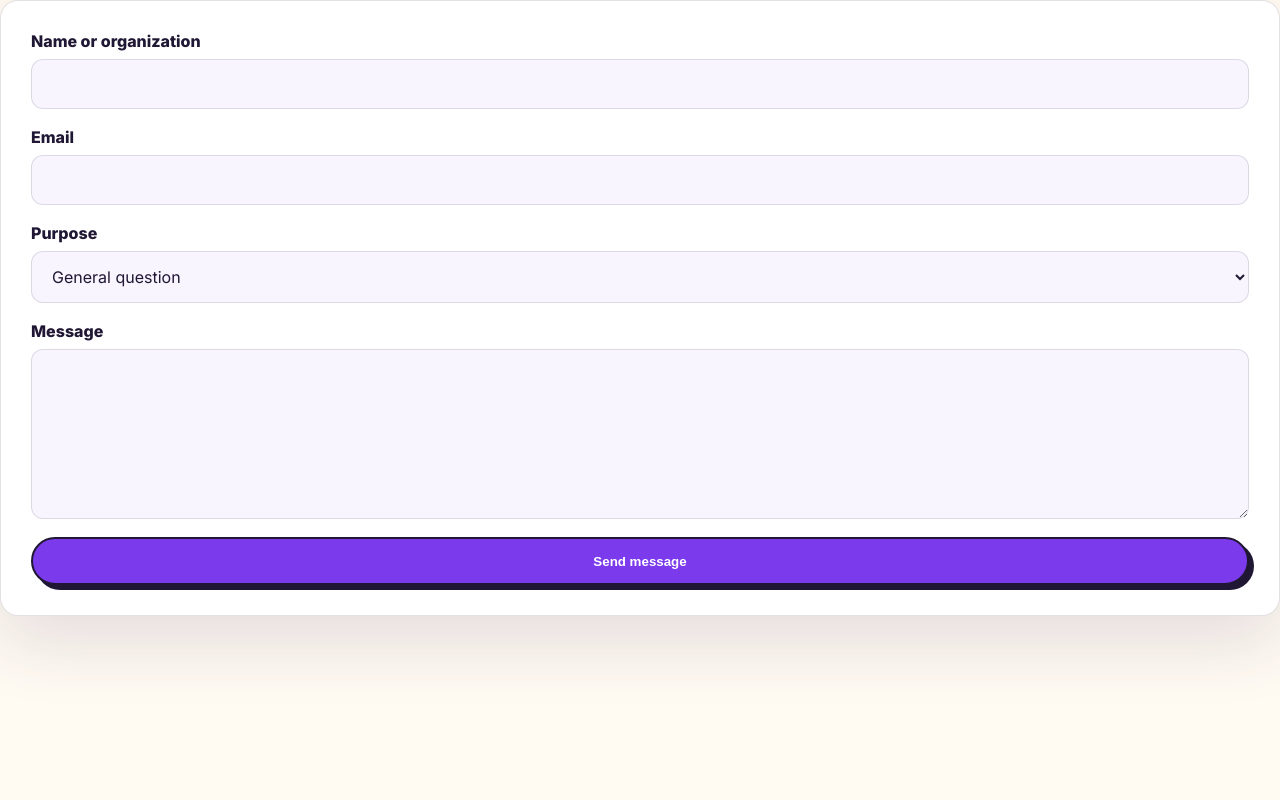
it: ContactForm › shows client-side validation errors
Click the button "Send message" at {"x": 640, "y": 561}, box [31, 537, 1249, 585]
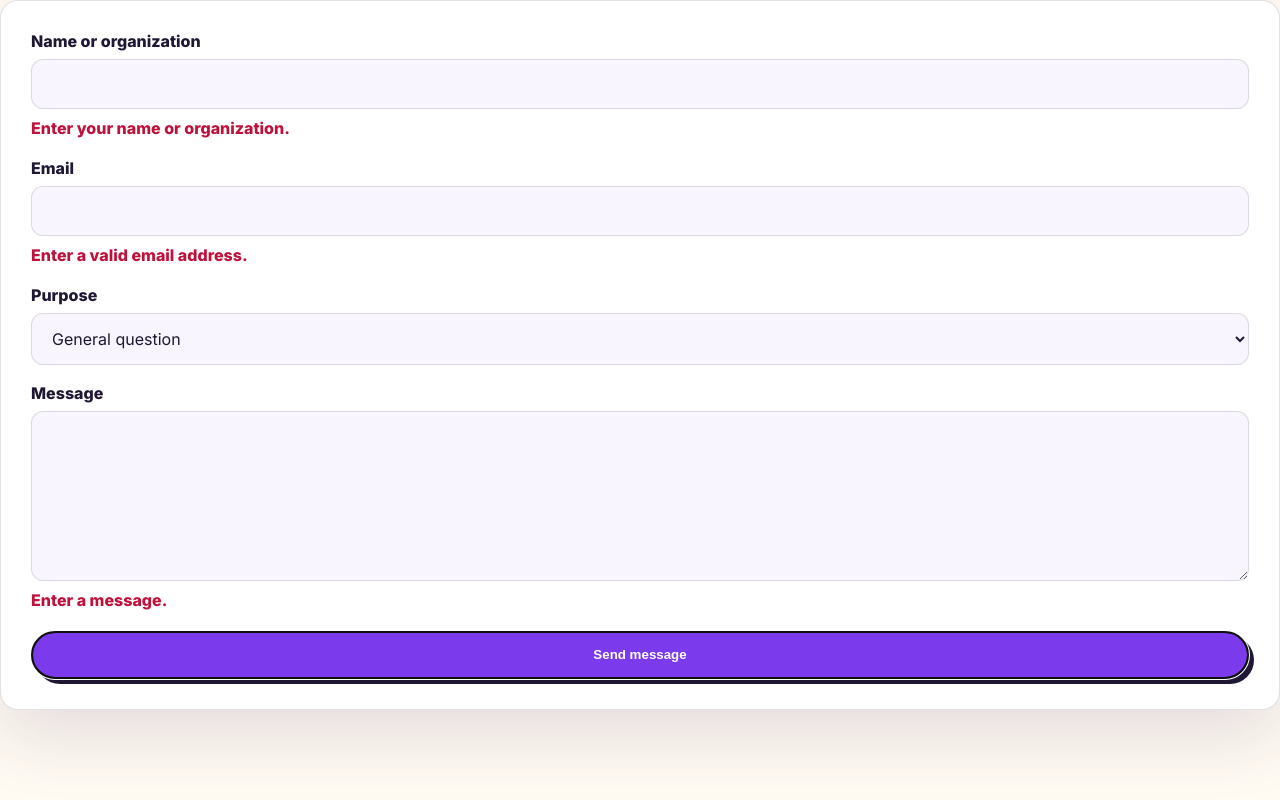
Result: the text "Enter your name or organization." is shown at [31, 118, 290, 138]
Result: the text "Enter a valid email address." is shown at [31, 245, 248, 265]
Result: the text "Enter a message." is shown at [31, 590, 167, 610]
